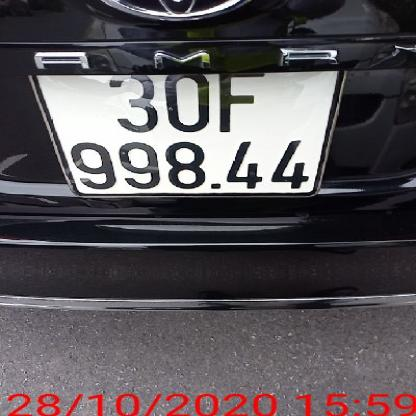biensoxe: (24, 53, 341, 218)
